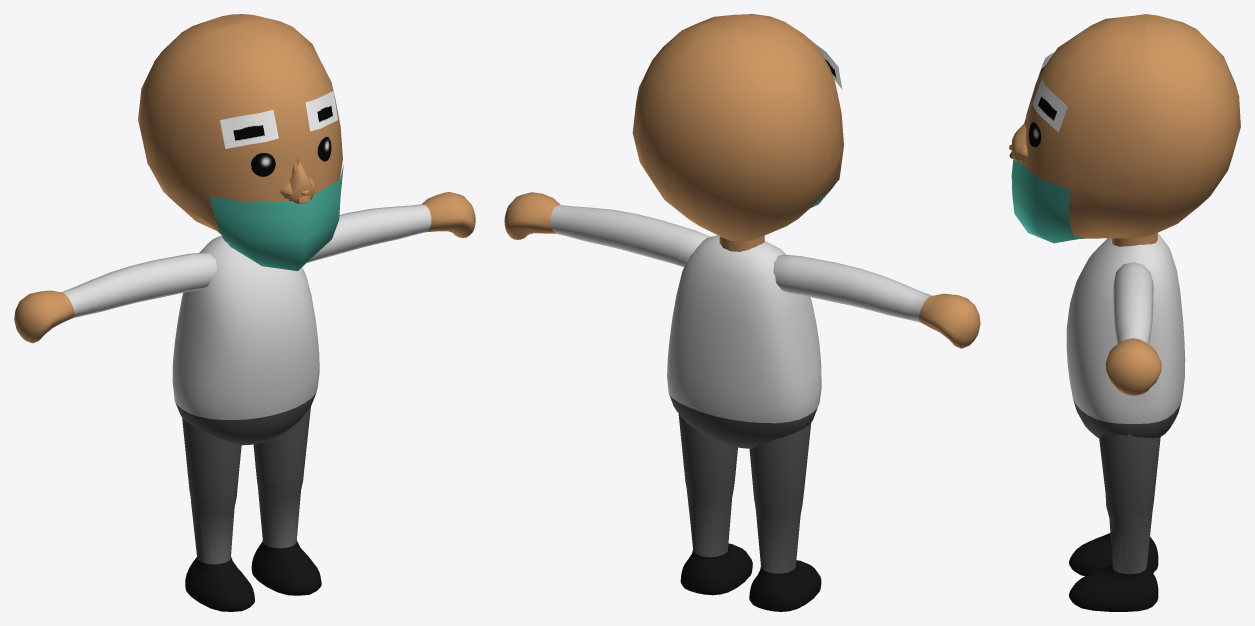
Rendered from avatar_model.fbx.
The picture shows the model from 3 angles, left to right: view 1: azimuth 30°, elevation 25°; view 2: azimuth 150°, elevation 25°; view 3: azimuth 270°, elevation 25°; orthographic projection. The views are drawn at different scales.
Visible parts, largest first — view 1: Cabeza_avatar, Cuerpo_avatar, Pierna_avatar_der, Pierna_avatar_izq, Brazo_avatar_der, Barba, Brazo_avatar_izq, Plano_der_ceja, Plano_izq_ceja, Nariz_5; view 2: Cabeza_avatar, Cuerpo_avatar, Pierna_avatar_der, Pierna_avatar_izq, Brazo_avatar_der, Brazo_avatar_izq; view 3: Cabeza_avatar, Cuerpo_avatar, Pierna_avatar_izq, Brazo_avatar_izq, Barba, Pierna_avatar_der, Plano_izq_ceja, Nariz_5.
Boxes of the visible parts, box(x1,y1,x2,y2) form: Cabeza_avatar: box(138, 14, 342, 241); Cuerpo_avatar: box(172, 235, 319, 445); Pierna_avatar_der: box(182, 418, 254, 611); Pierna_avatar_izq: box(251, 406, 321, 595); Brazo_avatar_der: box(14, 252, 216, 343); Barba: box(209, 165, 343, 270); Brazo_avatar_izq: box(307, 192, 475, 262); Plano_der_ceja: box(220, 109, 278, 148); Plano_izq_ceja: box(305, 91, 337, 131); Nariz_5: box(283, 163, 314, 203); Cabeza_avatar: box(632, 14, 843, 251); Cuerpo_avatar: box(667, 235, 821, 448); Pierna_avatar_der: box(749, 423, 821, 611); Pierna_avatar_izq: box(678, 414, 752, 595); Brazo_avatar_der: box(773, 254, 980, 348); Brazo_avatar_izq: box(504, 192, 710, 266); Cabeza_avatar: box(1021, 14, 1240, 246); Cuerpo_avatar: box(1066, 233, 1185, 438); Pierna_avatar_izq: box(1069, 433, 1160, 611); Brazo_avatar_izq: box(1105, 262, 1161, 395); Barba: box(1011, 159, 1084, 243); Pierna_avatar_der: box(1069, 533, 1158, 576); Plano_izq_ceja: box(1032, 79, 1067, 131); Nariz_5: box(1011, 123, 1026, 162).
Bounding box in the file's own units: 269 × 118 × 314.
Materials: 9 (3 with a texture image).
